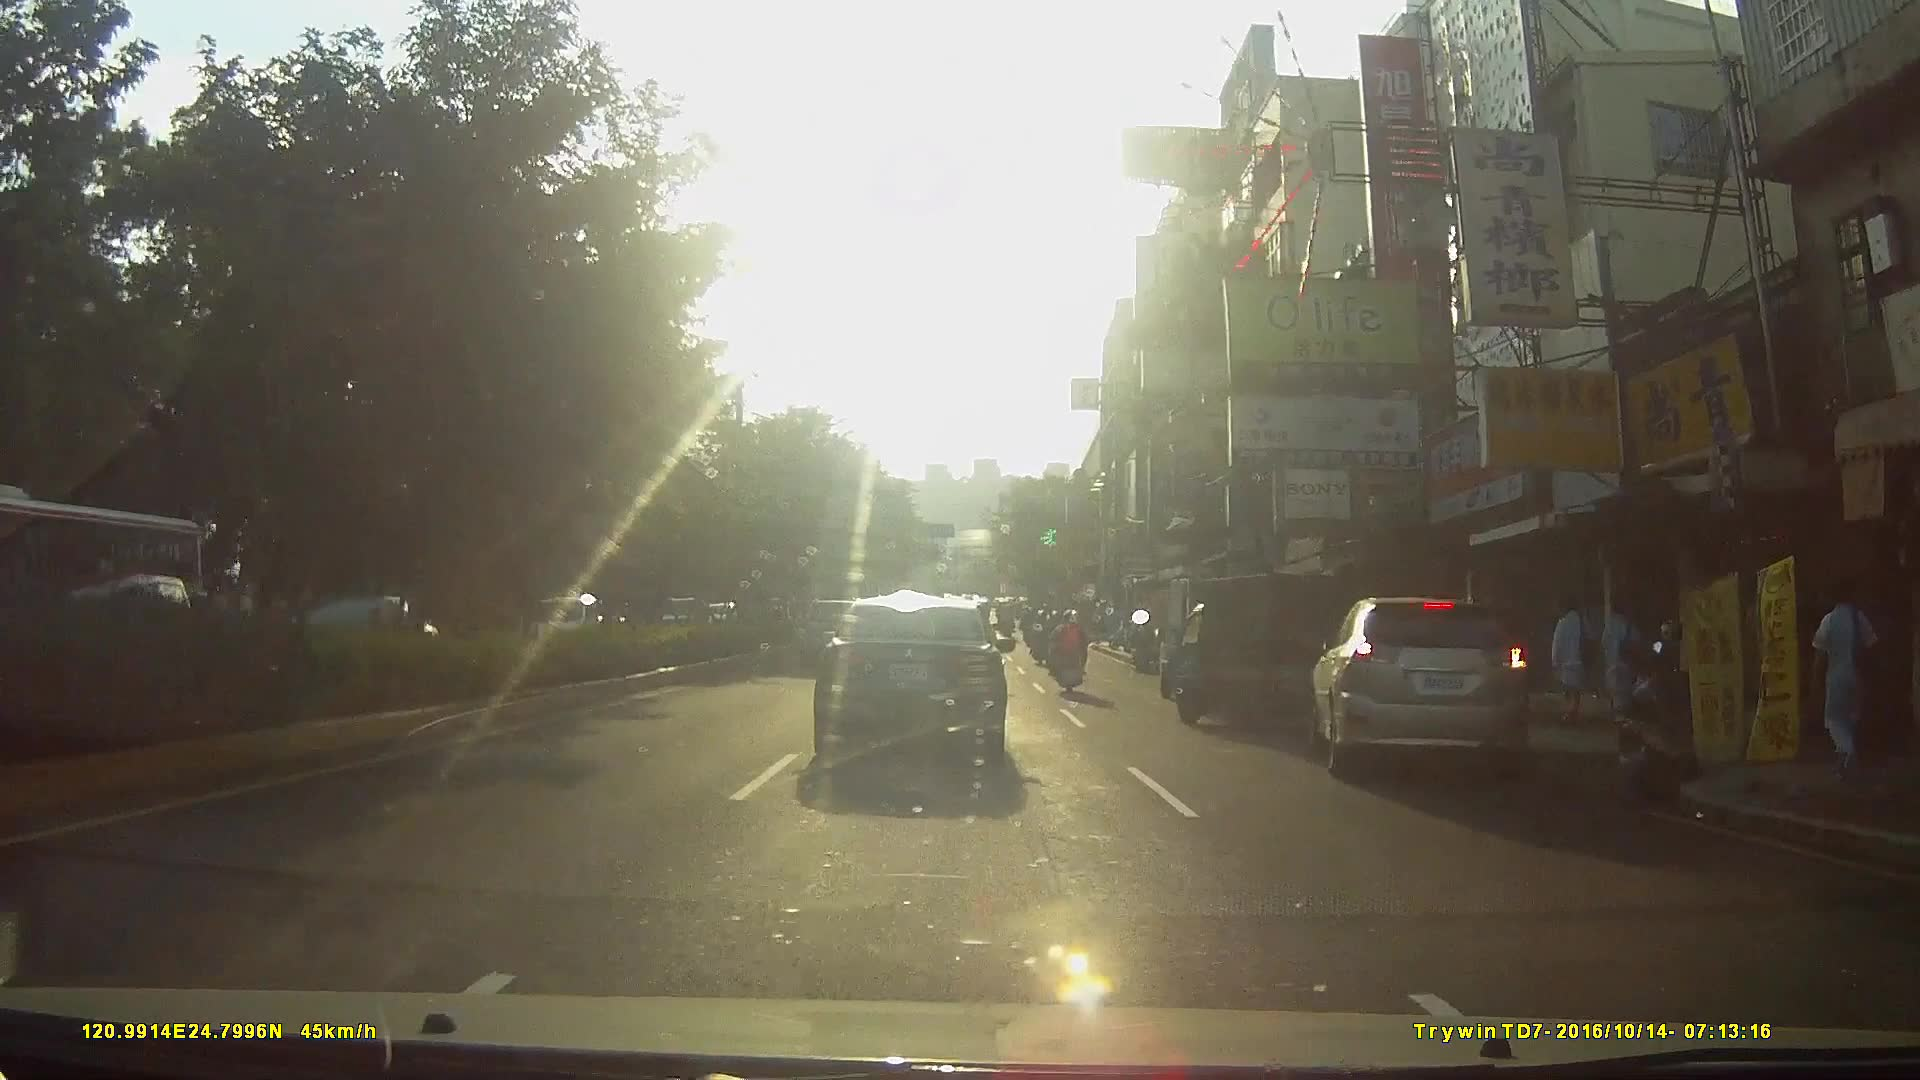pedestrian: (1812, 587, 1887, 780), (1592, 593, 1648, 736), (1547, 593, 1603, 735)
rider: (1046, 608, 1086, 699), (1025, 610, 1053, 666)
vehicle: (1310, 585, 1564, 803), (808, 592, 1026, 778), (1, 496, 208, 675), (1146, 568, 1309, 748)
